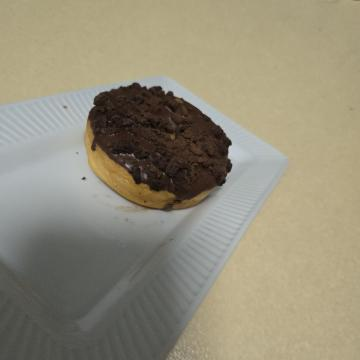doughnut: (65, 114, 225, 297)
